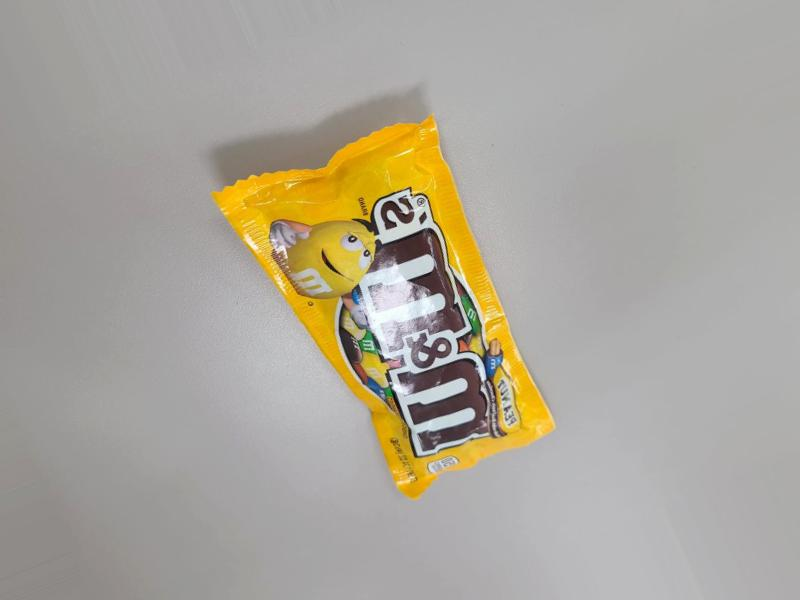m&m: (217, 106, 575, 513)
